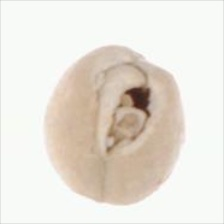L3: (98, 64, 151, 153)
L4: (45, 46, 186, 206)
